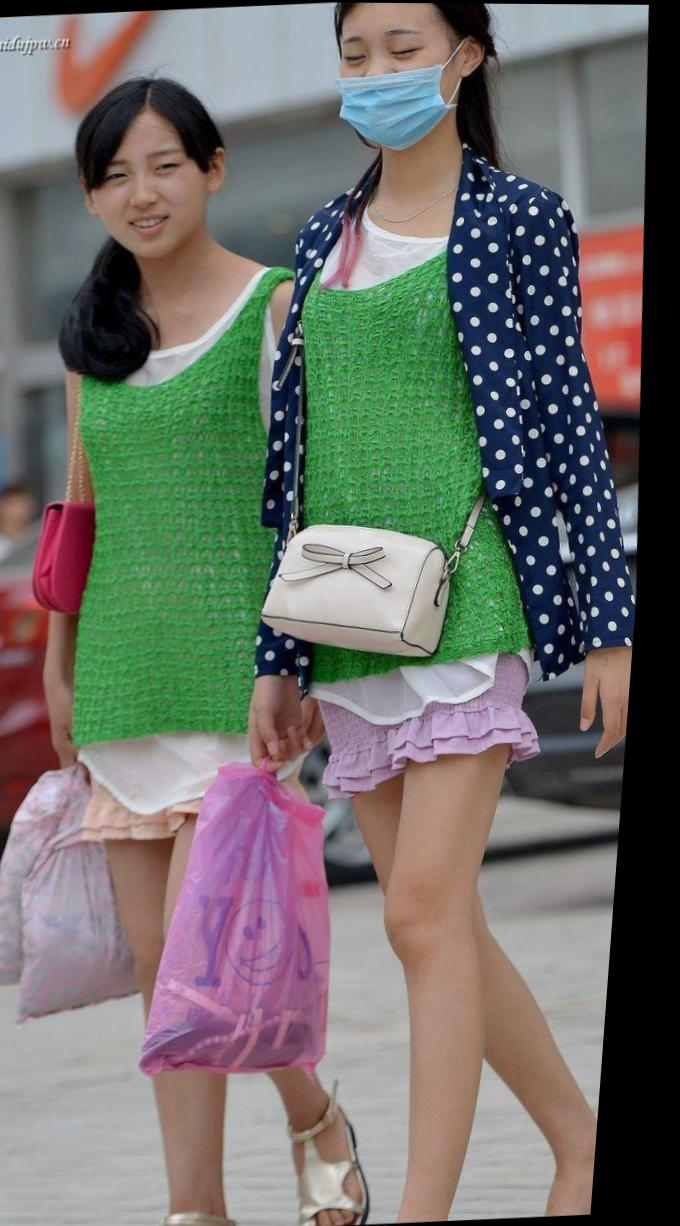NONE: (88, 128, 215, 257)
WRONG: (332, 8, 483, 152)
